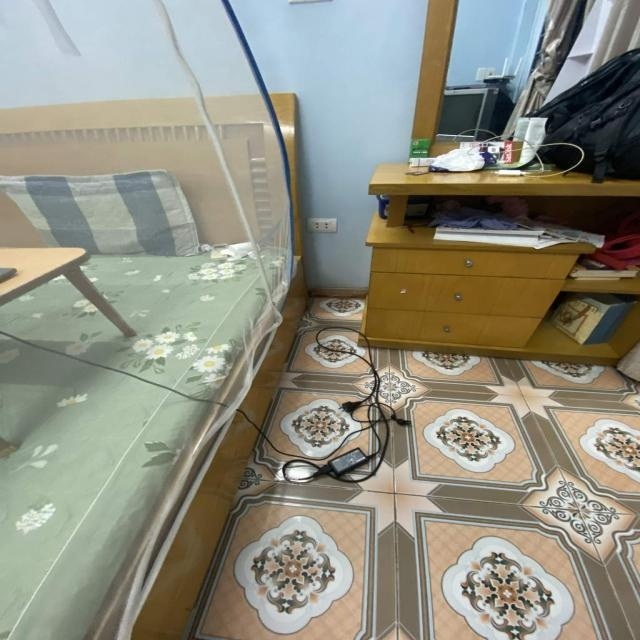outlet: (307, 218, 337, 233)
